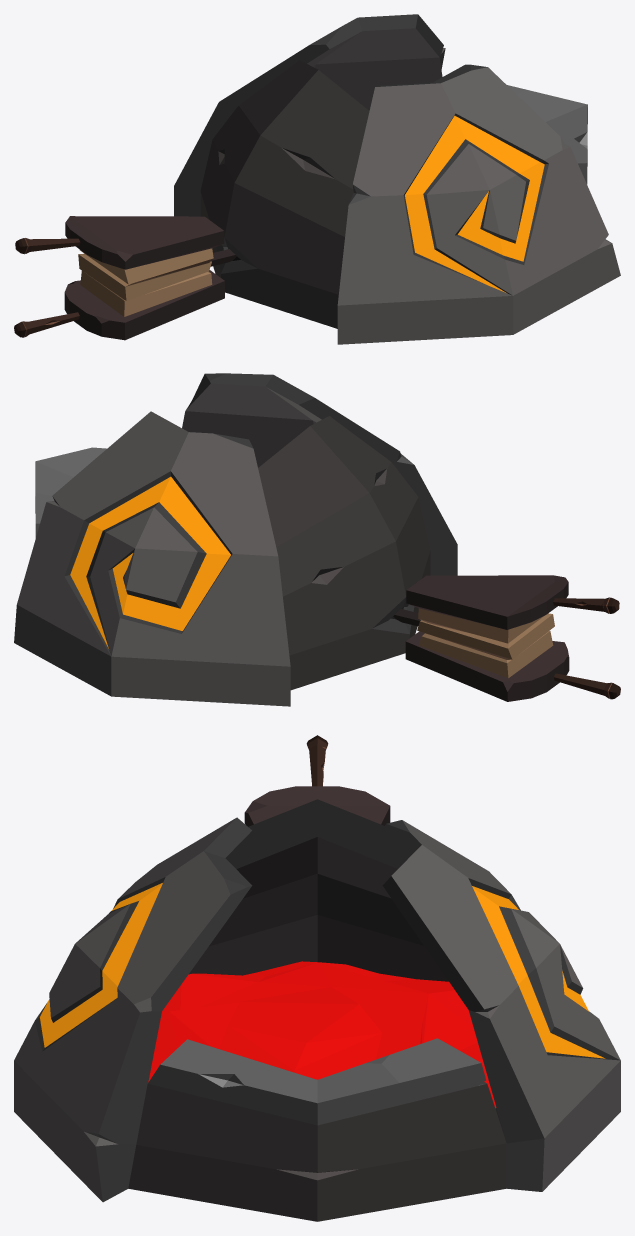
File: OvenSmith_01.glb
3 renders of one model, top to bottom at view 1: azimuth 30°, elevation 25°; view 2: azimuth 150°, elevation 25°; view 3: azimuth 270°, elevation 25°, orthographic. The views are drawn at different scales.
Visible parts, largest first — view 1: OvenSmith_01; view 2: OvenSmith_01; view 3: OvenSmith_01.
Boxes of the visible parts, x1,y1,x2,y2 form: OvenSmith_01: [14, 14, 620, 344]; OvenSmith_01: [14, 373, 620, 706]; OvenSmith_01: [14, 735, 620, 1221].
Size of what is drawn, in the model's own units: 4.24 by 1.44 by 2.97.
Materials: 2 (2 with a texture image).
